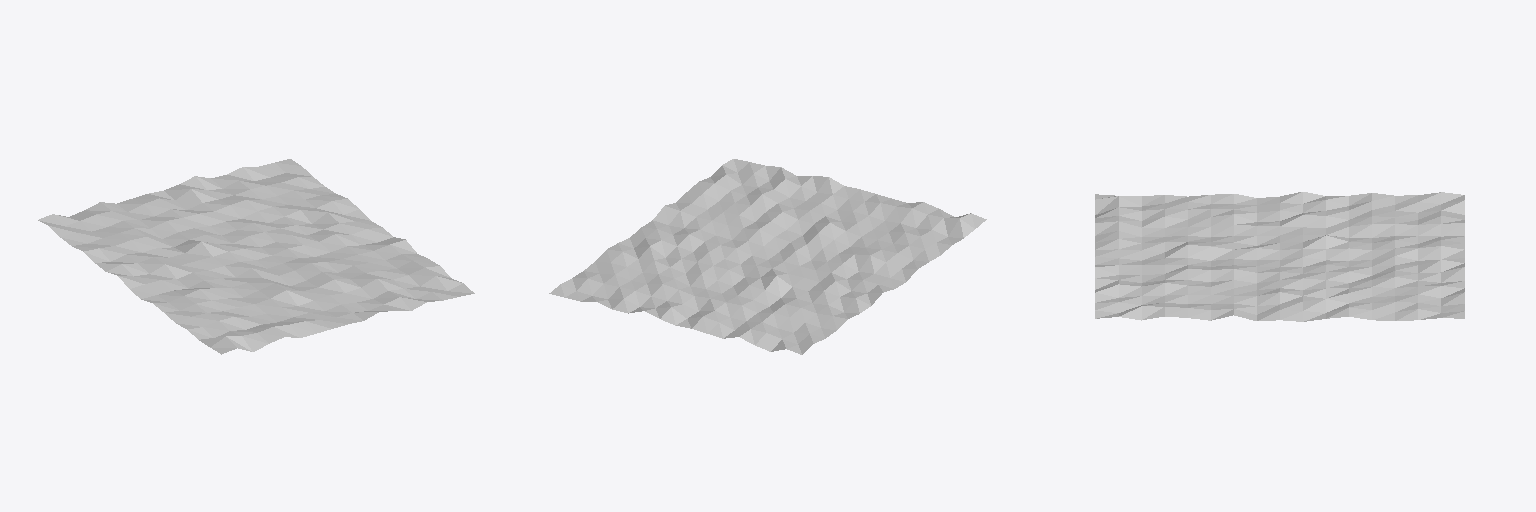
Rendered from Terrain_02.obj.
3 renders of one model, left to right at view 1: azimuth 30°, elevation 25°; view 2: azimuth 150°, elevation 25°; view 3: azimuth 270°, elevation 25°, orthographic.
Visible parts, largest first — view 1: Plane_Plane.001; view 2: Plane_Plane.001; view 3: Plane_Plane.001.
Boxes of the visible parts, x1,y1,x2,y2 form: Plane_Plane.001: [38, 159, 474, 354]; Plane_Plane.001: [549, 159, 986, 354]; Plane_Plane.001: [1095, 192, 1464, 321].
Size of the model in its own units: 11.13 by 0.4819 by 14.04.